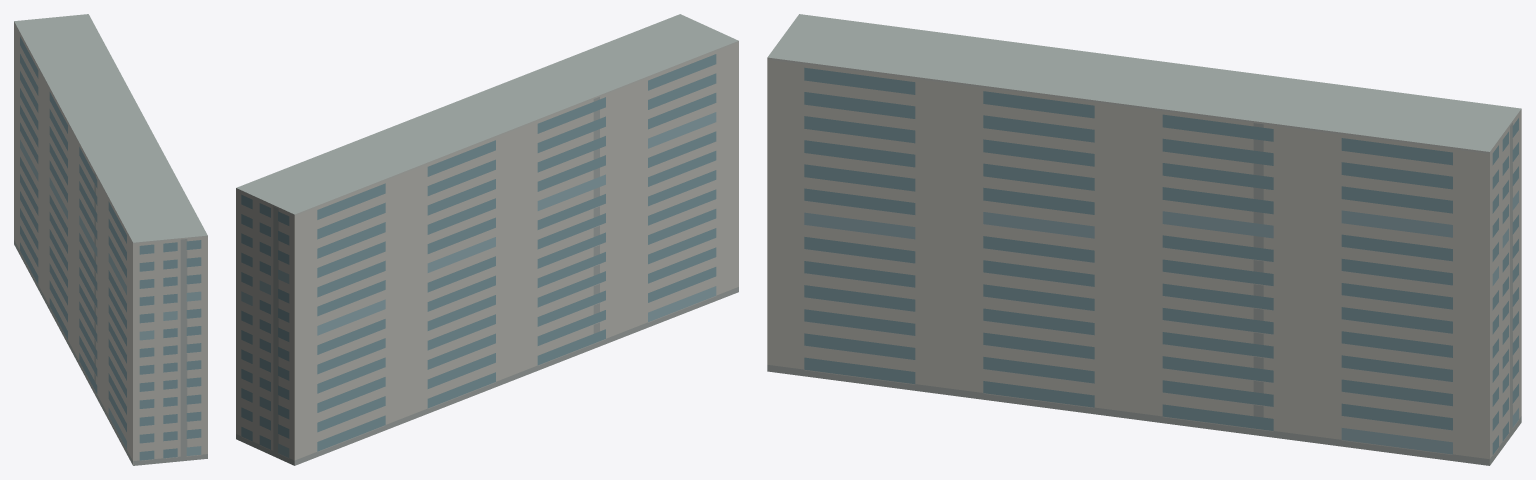
File: residential-5724322b-90f1-4d84-9df6-508f553ae67e.glb
3 views of the same model, side by side, from view 1: azimuth 30°, elevation 25°; view 2: azimuth 150°, elevation 25°; view 3: azimuth 270°, elevation 25° (orthographic). The views are drawn at different scales.
Visible parts, largest first — view 1: residential-5724322b-90f1-4d84-9df6-508f553ae67e.tmp; view 2: residential-5724322b-90f1-4d84-9df6-508f553ae67e.tmp; view 3: residential-5724322b-90f1-4d84-9df6-508f553ae67e.tmp.
Boxes of the visible parts, left/top/right/bottom form: residential-5724322b-90f1-4d84-9df6-508f553ae67e.tmp: left=14, top=14, right=207, bottom=465; residential-5724322b-90f1-4d84-9df6-508f553ae67e.tmp: left=236, top=14, right=738, bottom=465; residential-5724322b-90f1-4d84-9df6-508f553ae67e.tmp: left=767, top=14, right=1521, bottom=465.
Size of the model in its own units: 37.38 by 39.65 by 86.34.
